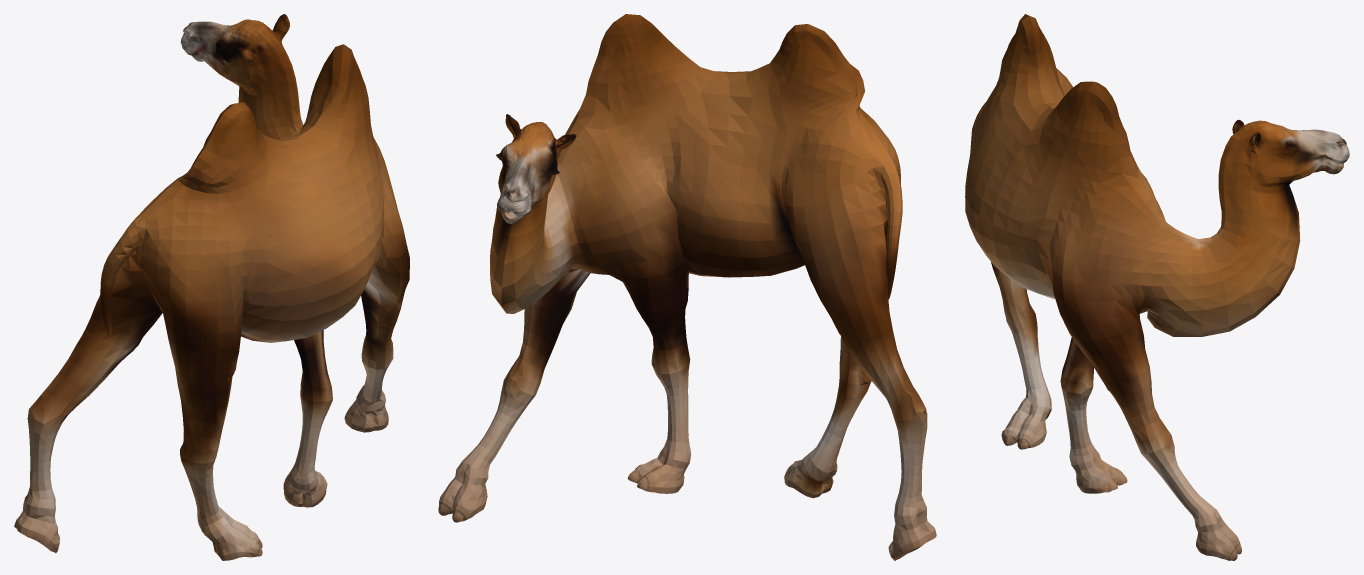
The model's file is camel.mesh.glb.
The picture shows the model from 3 angles, left to right: view 1: azimuth 30°, elevation 25°; view 2: azimuth 150°, elevation 25°; view 3: azimuth 270°, elevation 25°; orthographic projection. The views are drawn at different scales.
Visible parts, largest first — view 1: root; view 2: root; view 3: root.
Part boxes in pixels (x1,y1,x2,y2): root: (14,14,409,560); root: (438,14,936,560); root: (965,14,1349,560).
Size of the model in its own units: 0.4597 by 0.4748 by 0.3831.
Materials: 1 (1 with a texture image).
